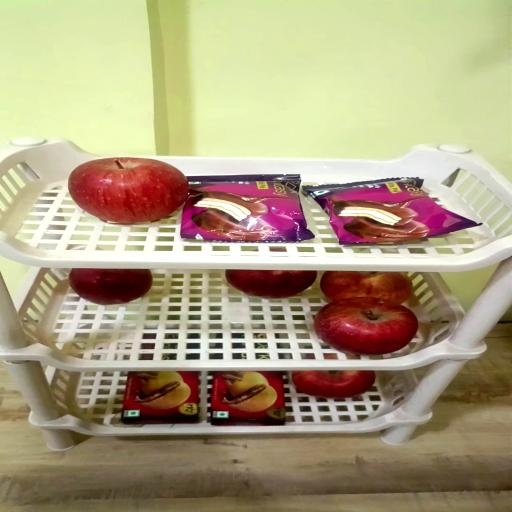Apple: (67, 159, 187, 227), (314, 298, 418, 356), (68, 269, 151, 306), (320, 272, 413, 304), (228, 271, 318, 300), (293, 369, 375, 398)
Choco Fills: (119, 370, 198, 424), (211, 370, 287, 425)
Choco Pie: (304, 180, 480, 246), (182, 177, 316, 245)
